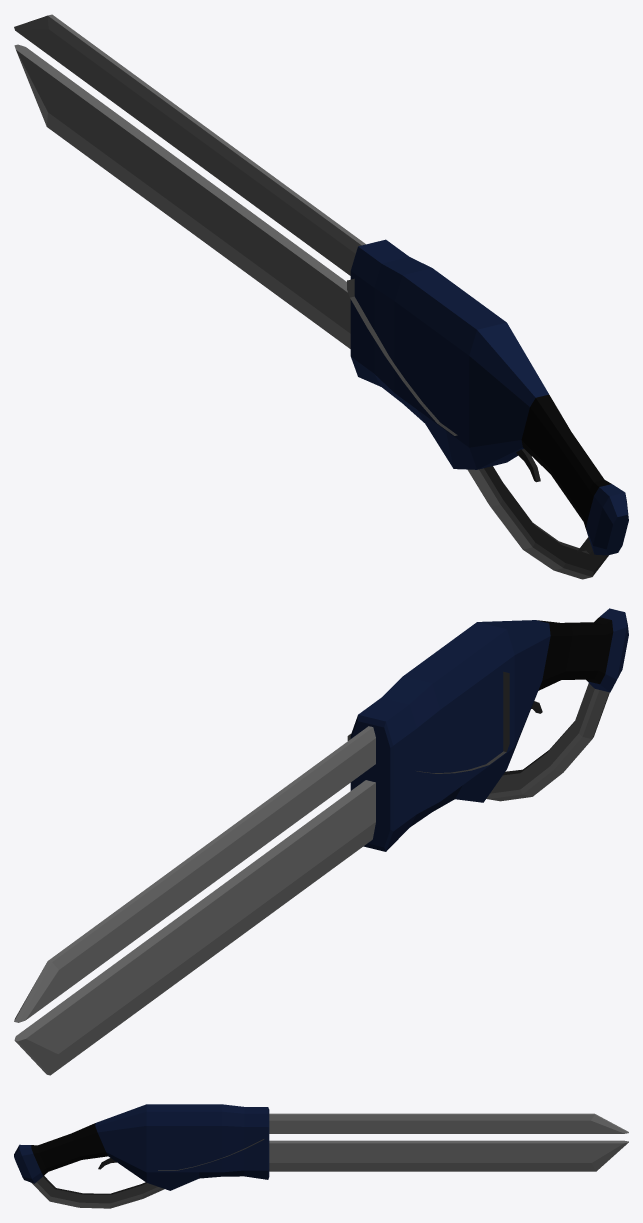
Rendered from EnergyWeapon.fbx.
3 views of the same model, one above another, from view 1: azimuth 30°, elevation 25°; view 2: azimuth 150°, elevation 25°; view 3: azimuth 270°, elevation 25° (orthographic). The views are drawn at different scales.
Visible parts, largest first — view 1: Cube.004; view 2: Cube.004; view 3: Cube.004.
Boxes of the visible parts, <box> form: Cube.004: <box>14,14,628,579</box>; Cube.004: <box>14,608,628,1075</box>; Cube.004: <box>14,1104,628,1208</box>.
Size of the model in its own units: 21.68 by 71.06 by 398.
